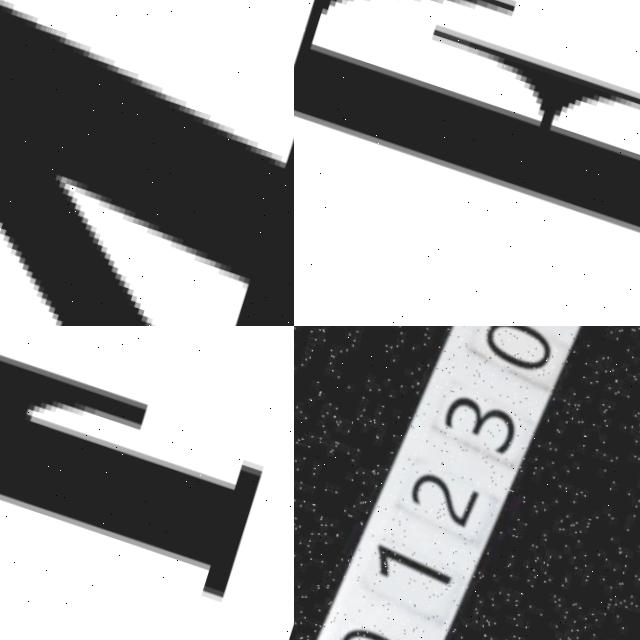0: (461, 326, 571, 393), (308, 606, 427, 640)
1: (344, 526, 465, 630)
2: (383, 452, 493, 546)
3: (418, 374, 536, 474)
F: (294, 0, 640, 313), (0, 326, 287, 611)
